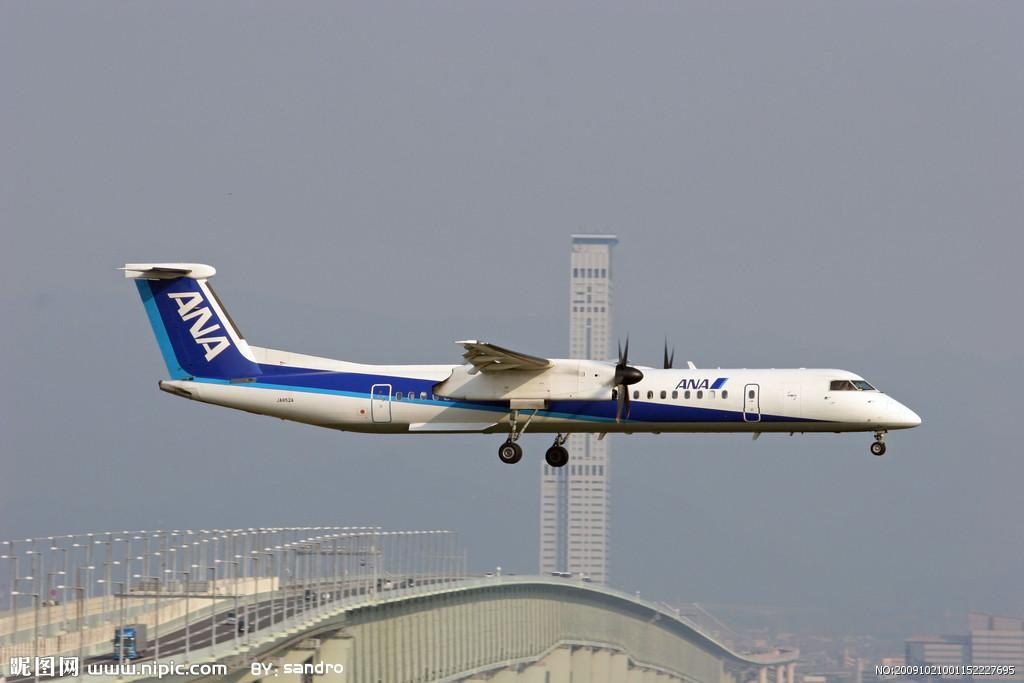airplane: (109, 251, 928, 456)
